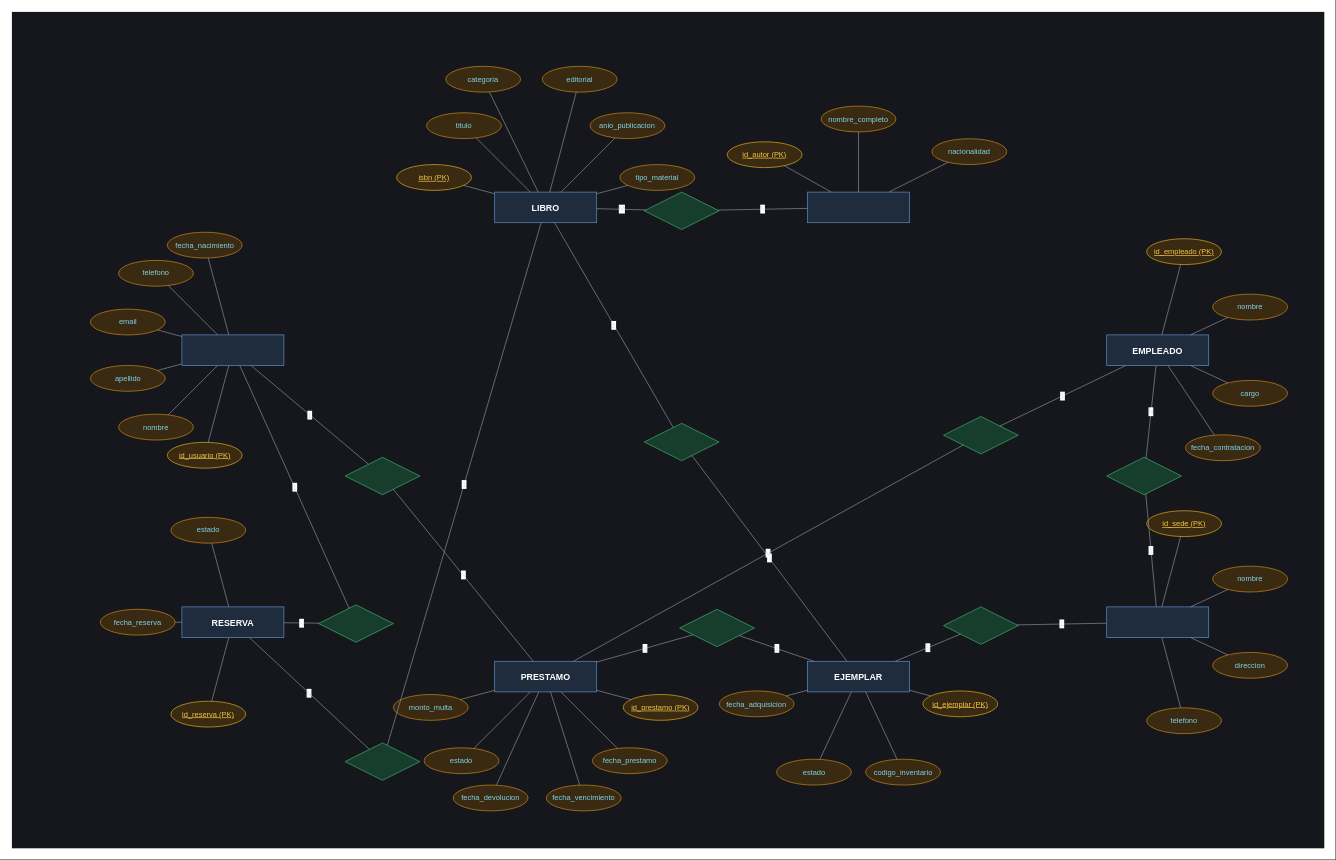
This 1336x860 diagram has some shape labels left out. The centre of each missing label's shape, as x and y in pixels:
ALMACENA: (980,625)
AUTOR: (858,207)
ES_RESERVADO: (382,761)
ESCRIBE: (681,210)
GESTIONA: (980,435)
INVOLUCRA: (716,628)
PERTENECE: (681,442)
RESERVA_LIB: (355,623)
SEDE: (1157,622)
SOLICITA: (382,476)
TRABAJA_EN: (1144,476)
USUARIO: (232,350)
